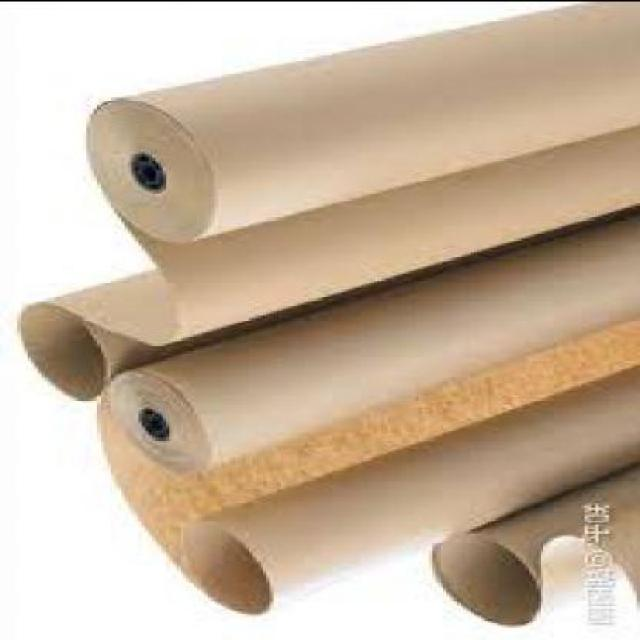cardboard: (14, 130, 637, 398), (105, 211, 637, 469), (83, 1, 639, 237), (101, 401, 637, 614), (426, 472, 637, 638)
